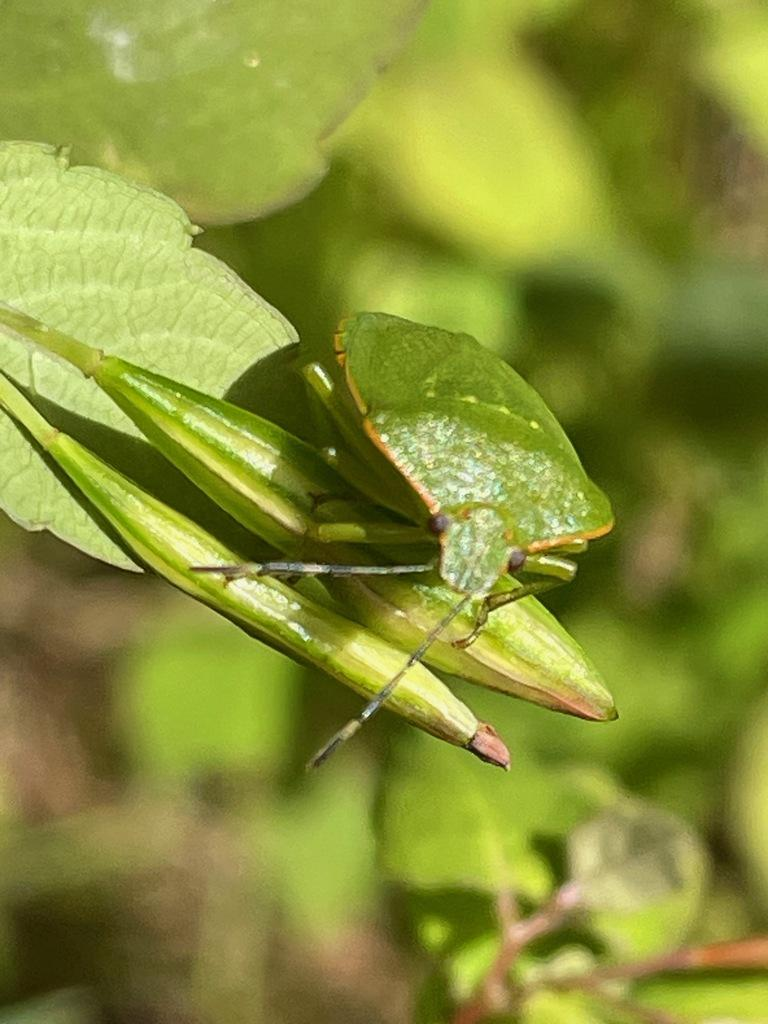stink_bugs: (181, 232, 729, 813)
